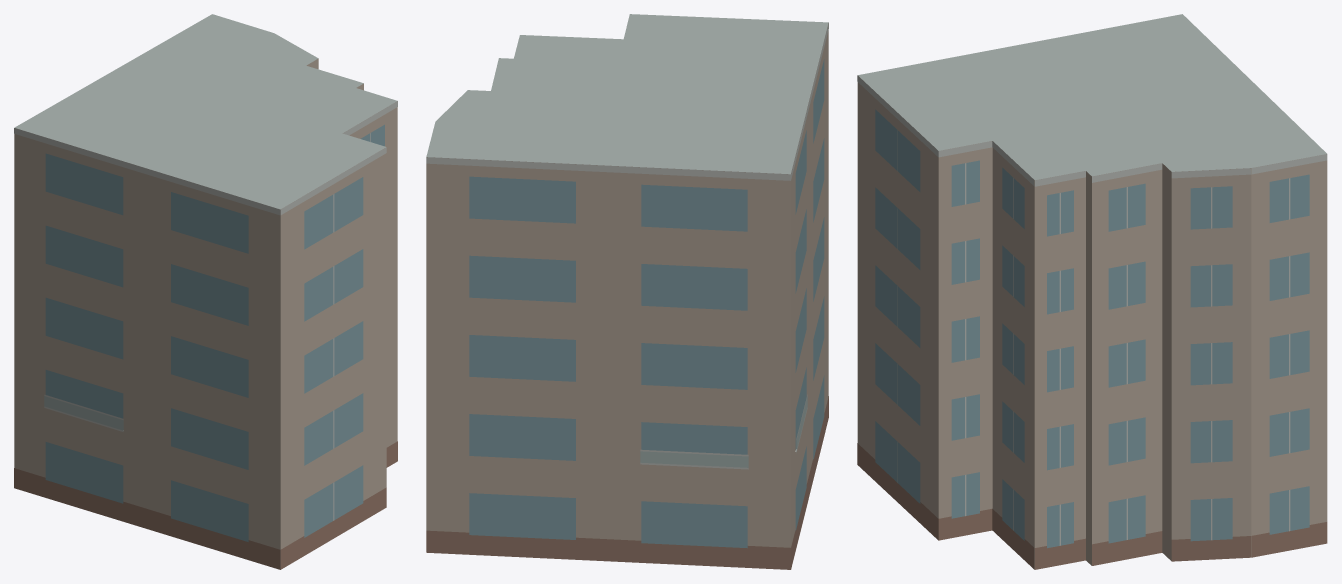
File: survey-upis-32743169.glb
3 renders of one model, left to right at view 1: azimuth 30°, elevation 25°; view 2: azimuth 150°, elevation 25°; view 3: azimuth 270°, elevation 25°, orthographic. The views are drawn at different scales.
Visible parts, largest first — view 1: survey-upis-32743169.tmp; view 2: survey-upis-32743169.tmp; view 3: survey-upis-32743169.tmp.
Boxes of the visible parts, x1,y1,x2,y2 form: survey-upis-32743169.tmp: (14,14,397,569); survey-upis-32743169.tmp: (426,14,828,569); survey-upis-32743169.tmp: (857,14,1327,569).
Size of the model in its own units: 13.37 by 14.6 by 15.97.
